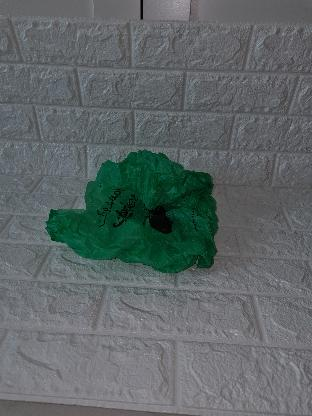Plastic Bag: (34, 145, 224, 289)
